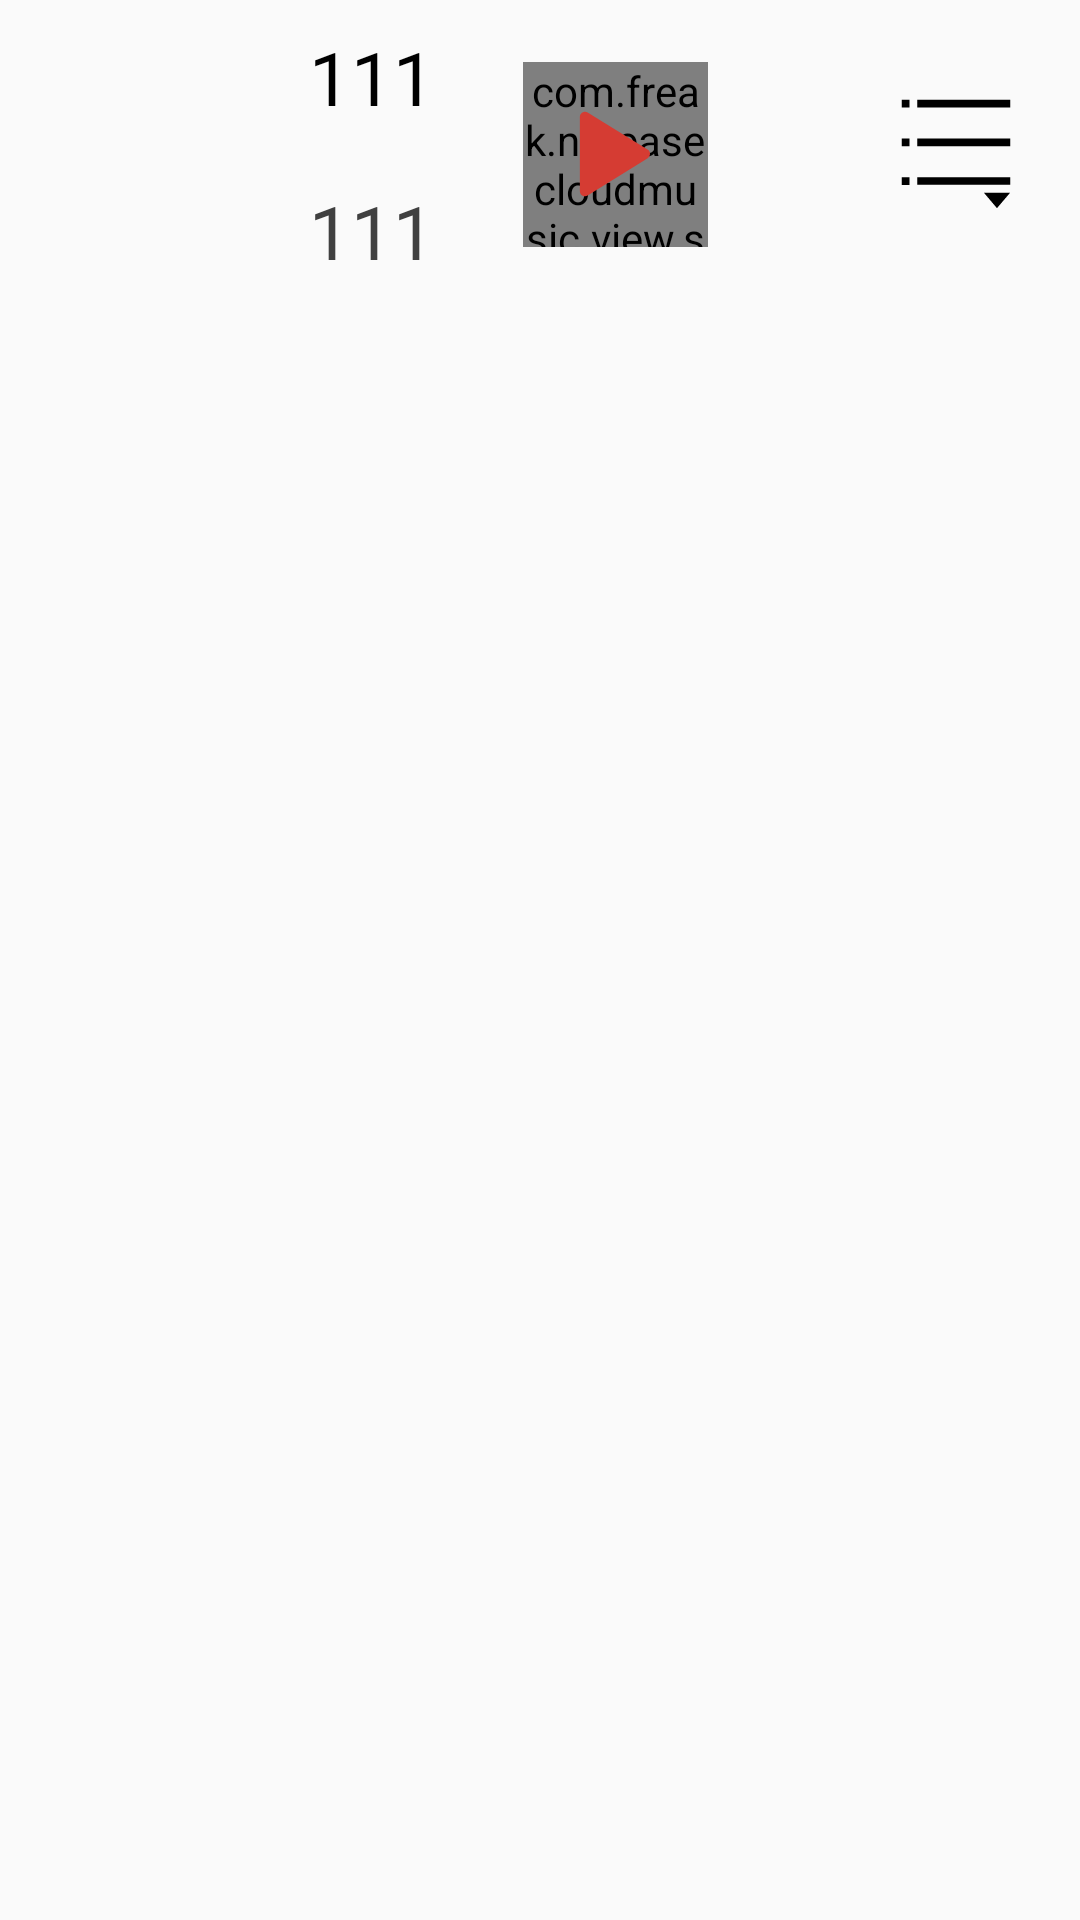

Point at icon controls on the screen. Image size 1080w x 1920h, points as (x=x, y=y).
play list: (x=956, y=153)
